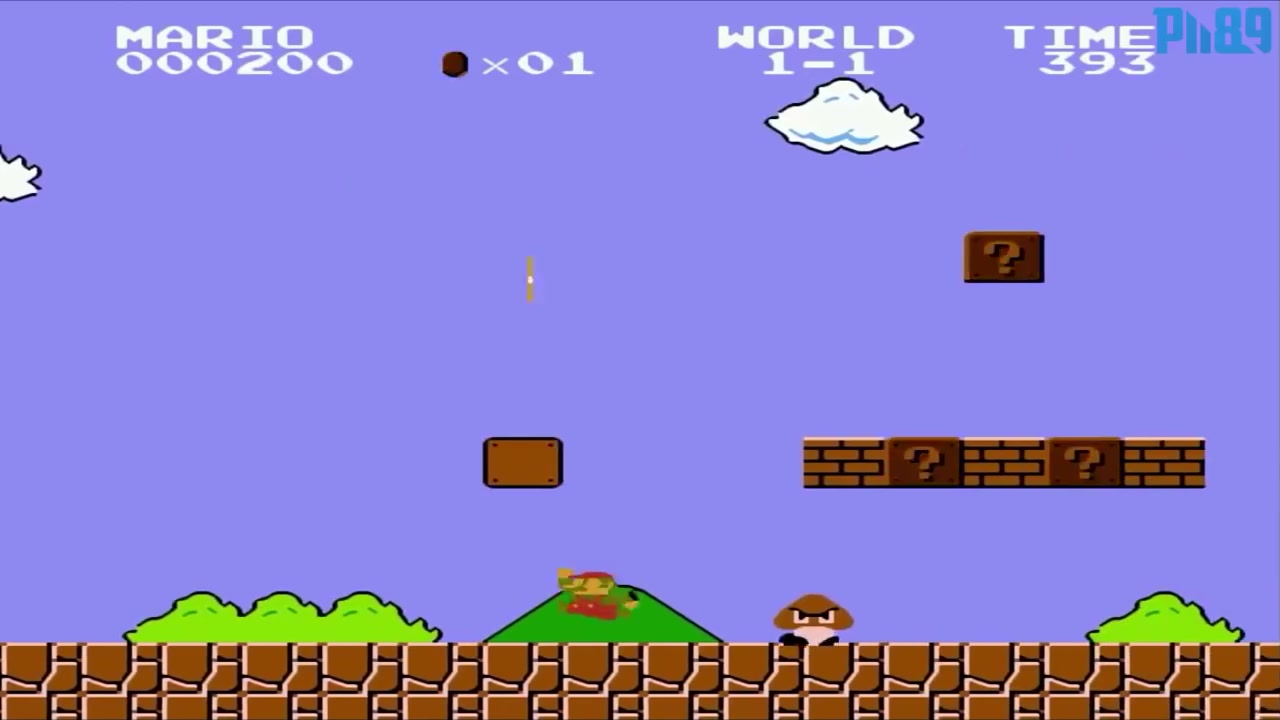mario: (543, 554, 652, 630)
